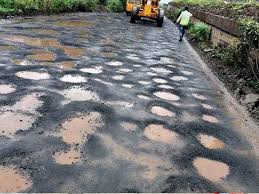pothole: (136, 52, 192, 115), (1, 67, 51, 134), (53, 107, 107, 164), (193, 130, 236, 194), (116, 114, 189, 151), (1, 17, 52, 63), (54, 16, 103, 63), (54, 59, 104, 105), (126, 168, 194, 194), (1, 154, 43, 193), (107, 54, 136, 110), (194, 89, 229, 128), (106, 22, 143, 52), (151, 27, 176, 53)
